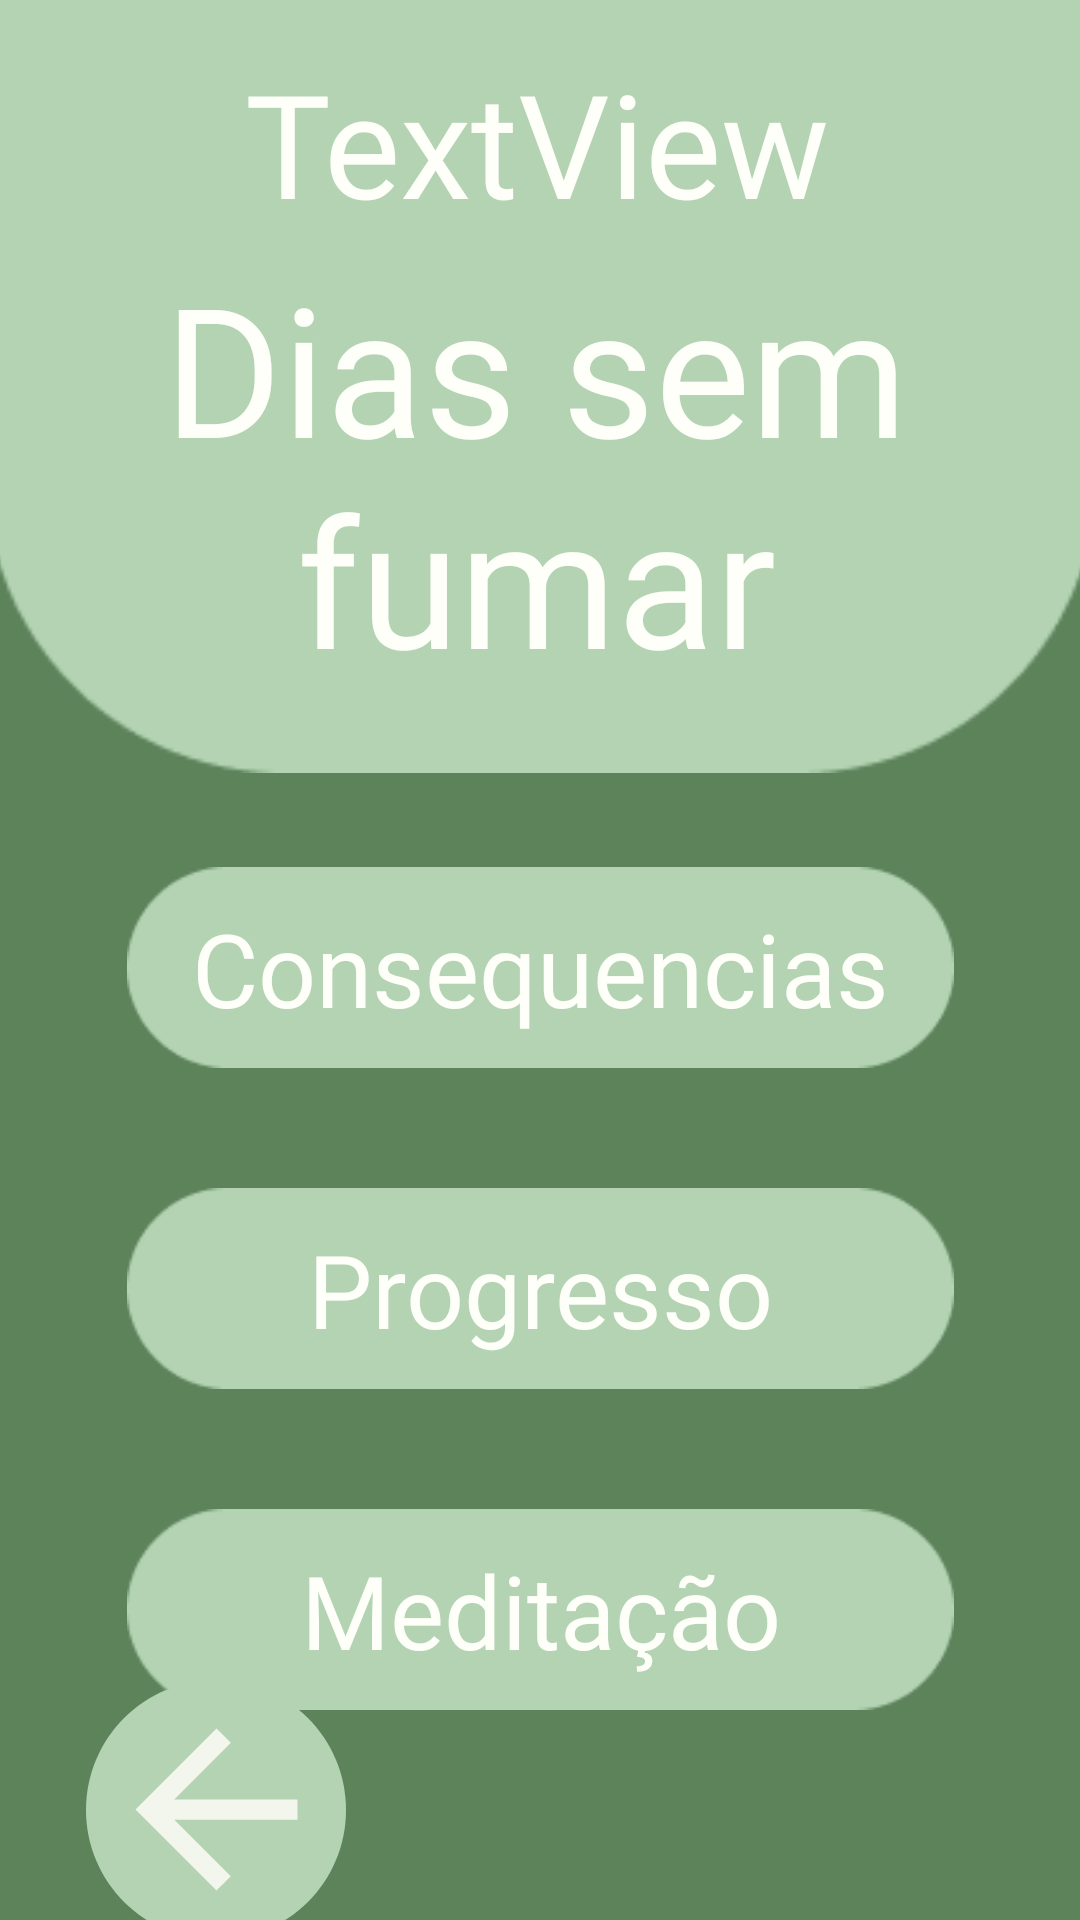

Screen size 1080×1920. Icon name, then its center in pixels as (x=x, y=y):
arrow back: (x=221, y=1804)
